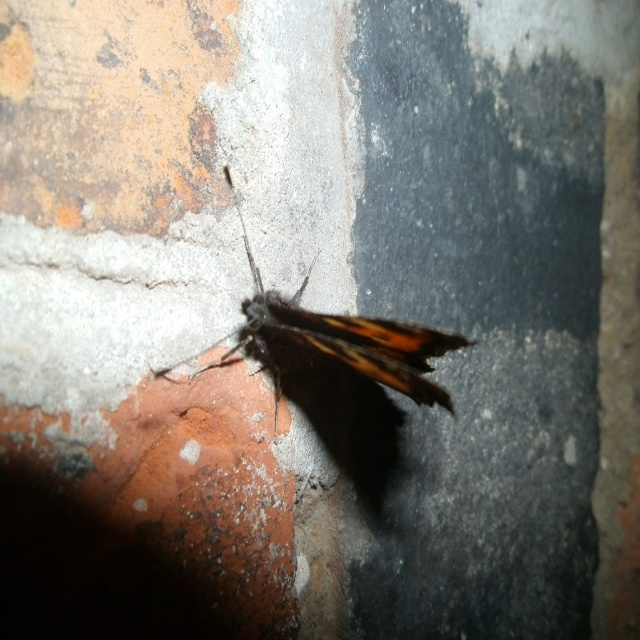Butterfly: (154, 164, 476, 436)
